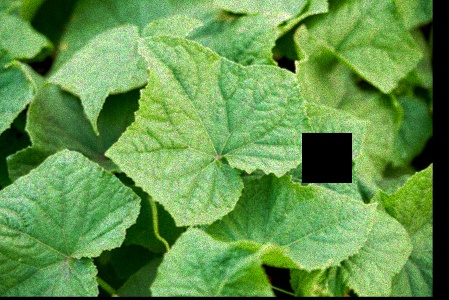cucumber_plant: (113, 30, 377, 296)
